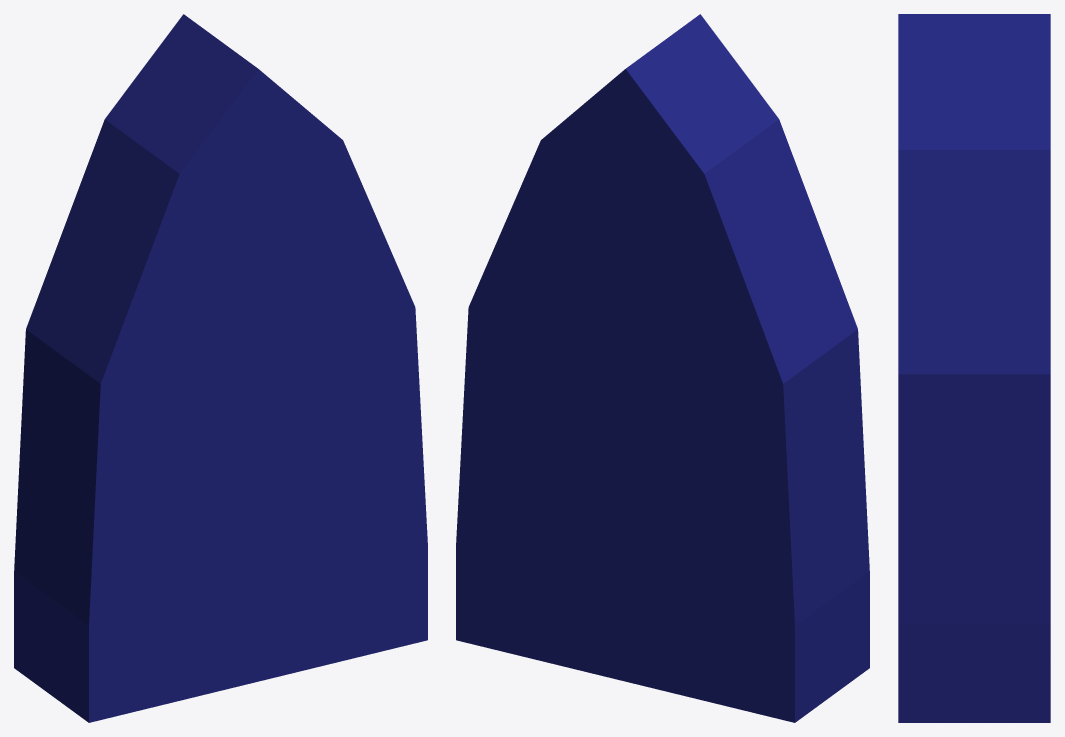
The model's file is side wall 2 small window blue.glb.
3 views of the same model, side by side, from view 1: azimuth 30°, elevation 25°; view 2: azimuth 150°, elevation 25°; view 3: azimuth 270°, elevation 25° (orthographic).
Parts seen in each view (by area): view 1: small window.002; view 2: small window.002; view 3: small window.002.
Part boxes in pixels (x1,y1,x2,y2): small window.002: (14,14,427,722); small window.002: (456,14,869,722); small window.002: (898,14,1050,722).
Bounding box in the file's own units: 57.5 × 99.38 × 22.
1 material, 1 textured.
